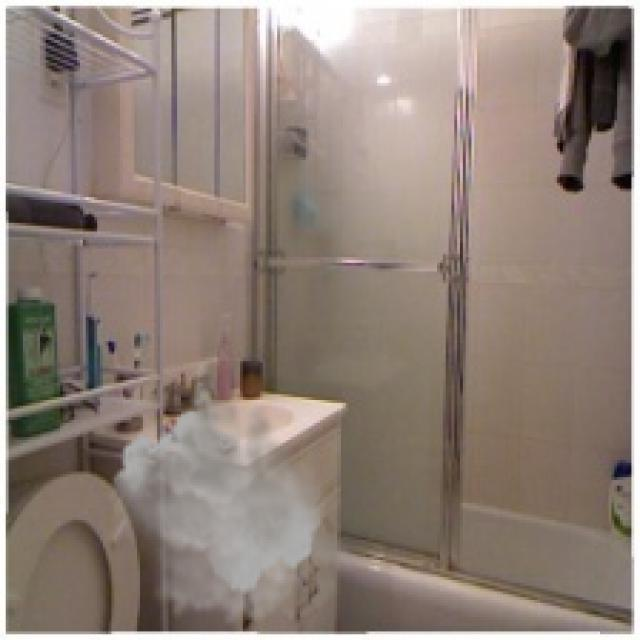Smoke: (109, 357, 358, 629)
